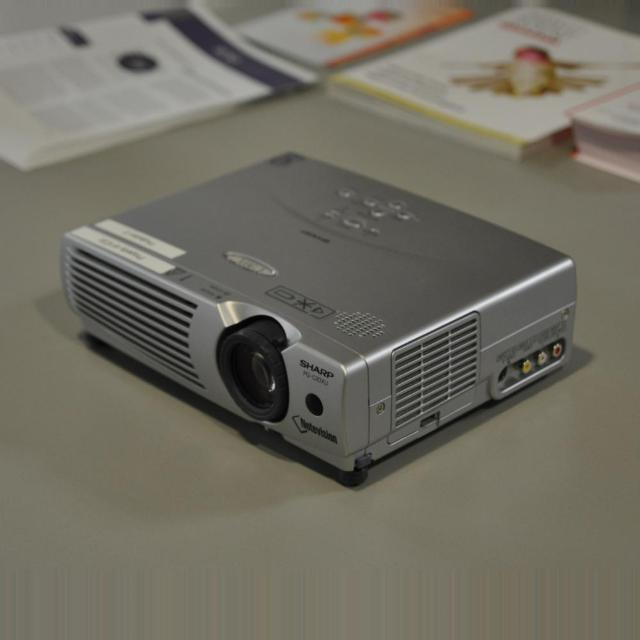Projector: (63, 150, 577, 488)
